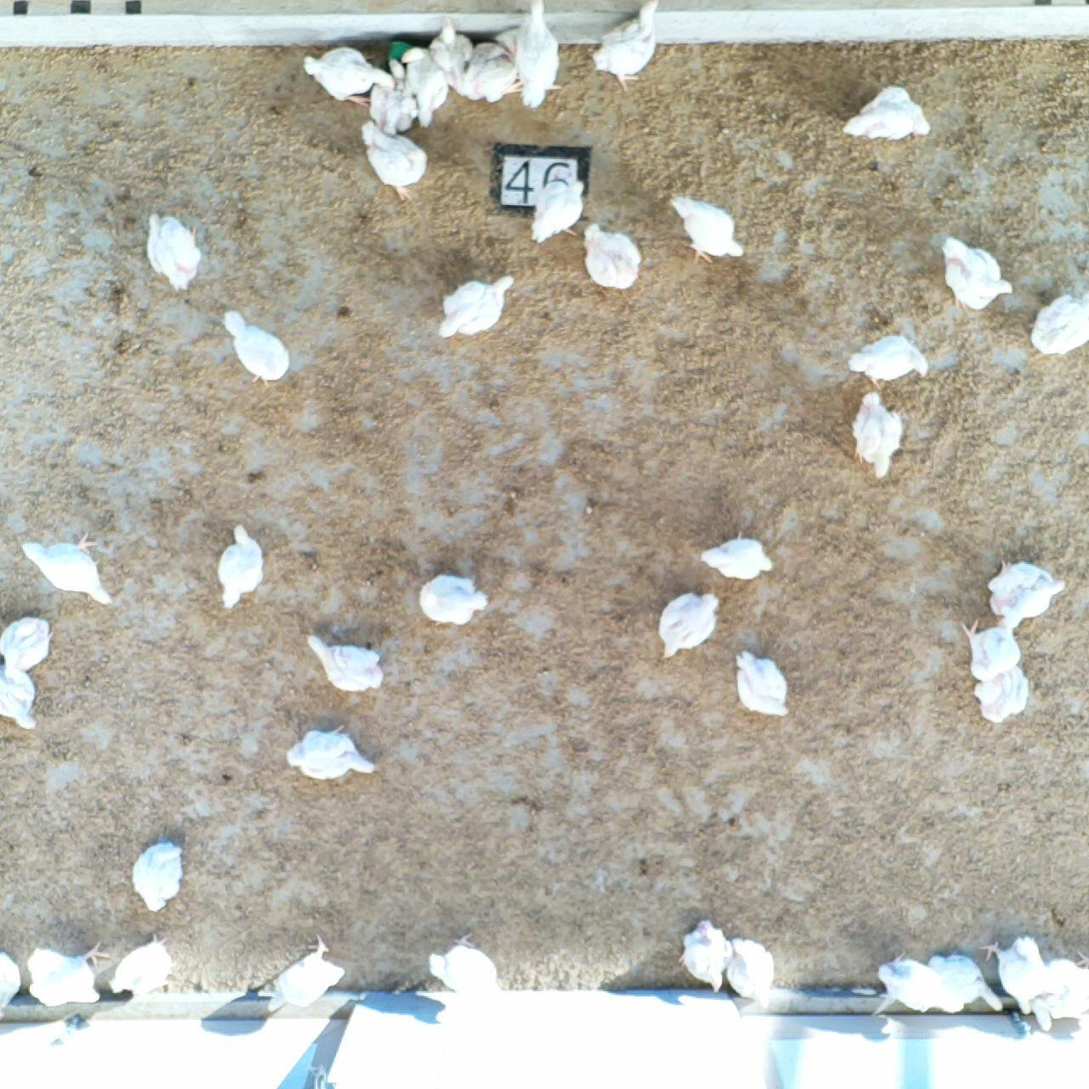chicken: (20, 535, 125, 612), (585, 0, 666, 90), (841, 82, 939, 156), (505, 0, 568, 115), (264, 935, 351, 1018), (841, 391, 923, 479), (423, 934, 518, 1006), (22, 938, 114, 1012), (121, 837, 201, 921), (219, 309, 301, 388), (360, 121, 436, 205), (939, 236, 1019, 315), (138, 212, 213, 296), (435, 270, 519, 342), (988, 556, 1066, 631), (877, 950, 959, 1021), (304, 629, 387, 699), (303, 48, 395, 111), (670, 190, 744, 267), (848, 325, 933, 392), (209, 524, 275, 610), (925, 951, 1006, 1020), (108, 932, 182, 1005), (286, 726, 378, 783), (959, 619, 1036, 686), (726, 647, 796, 718), (415, 571, 494, 633), (984, 937, 1048, 1013), (656, 590, 722, 661), (1034, 951, 1089, 1034), (530, 172, 589, 249), (967, 670, 1046, 727), (366, 59, 424, 135), (582, 221, 642, 293), (460, 38, 523, 105), (699, 531, 775, 586), (401, 46, 449, 133), (680, 920, 736, 993), (422, 16, 476, 91), (1028, 291, 1089, 356), (728, 934, 780, 1010), (0, 611, 53, 678), (0, 661, 43, 731), (1, 942, 32, 1022)
